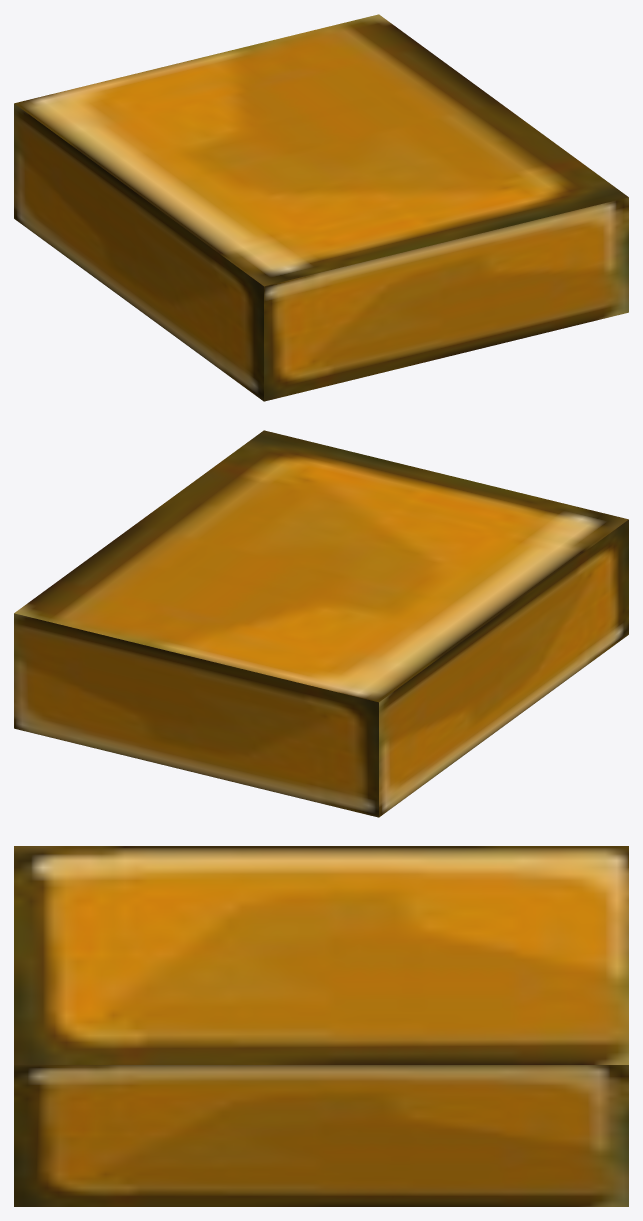
Rendered from Yellow square.fbx.
The picture shows the model from 3 angles, top to bottom: view 1: azimuth 30°, elevation 25°; view 2: azimuth 150°, elevation 25°; view 3: azimuth 270°, elevation 25°; orthographic projection. The views are drawn at different scales.
Parts seen in each view (by area): view 1: Cube.1431; view 2: Cube.1431; view 3: Cube.1431.
Part boxes in pixels (x1,y1,x2,y2): Cube.1431: [14, 14, 628, 401]; Cube.1431: [14, 430, 628, 817]; Cube.1431: [14, 846, 628, 1206].
Bounding box in the file's own units: 52.83 × 15.94 × 62.68.
